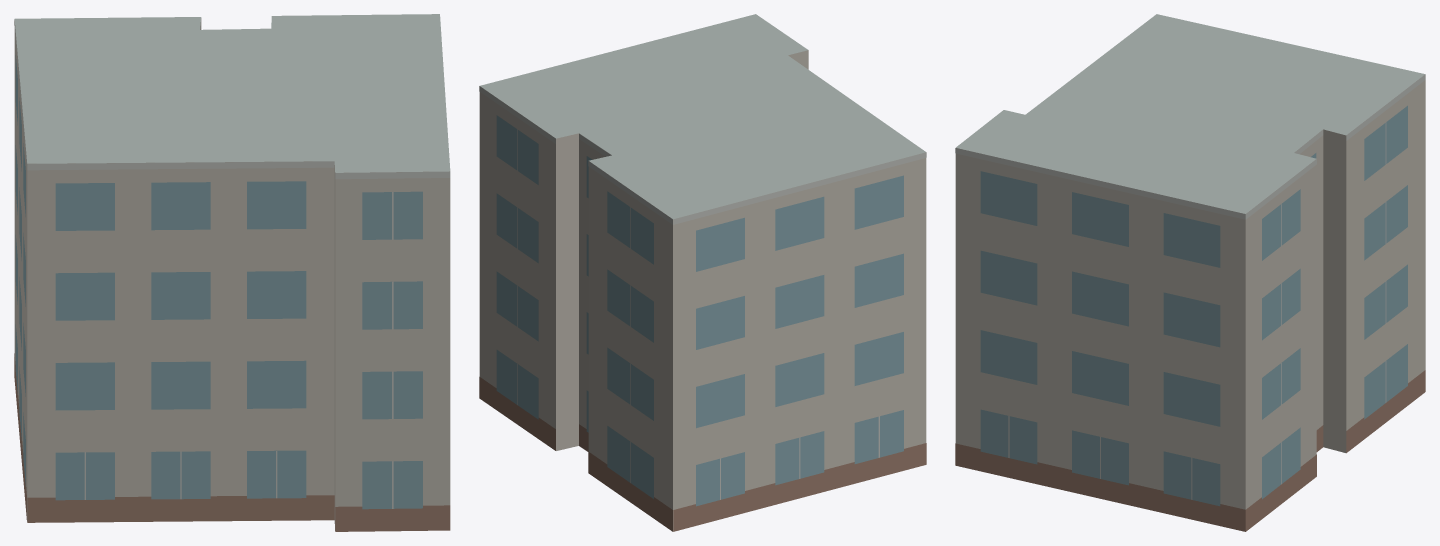
The model's file is survey-upis-32684282.glb.
The picture shows the model from 3 angles, left to right: view 1: azimuth 30°, elevation 25°; view 2: azimuth 150°, elevation 25°; view 3: azimuth 270°, elevation 25°; orthographic projection. The views are drawn at different scales.
Parts seen in each view (by area): view 1: survey-upis-32684282.tmp; view 2: survey-upis-32684282.tmp; view 3: survey-upis-32684282.tmp.
Boxes of the visible parts, x1,y1,x2,y2 form: survey-upis-32684282.tmp: [14, 14, 450, 531]; survey-upis-32684282.tmp: [479, 14, 926, 531]; survey-upis-32684282.tmp: [955, 14, 1425, 531].
Bounding box in the file's own units: 18.3 × 13.55 × 18.17.
